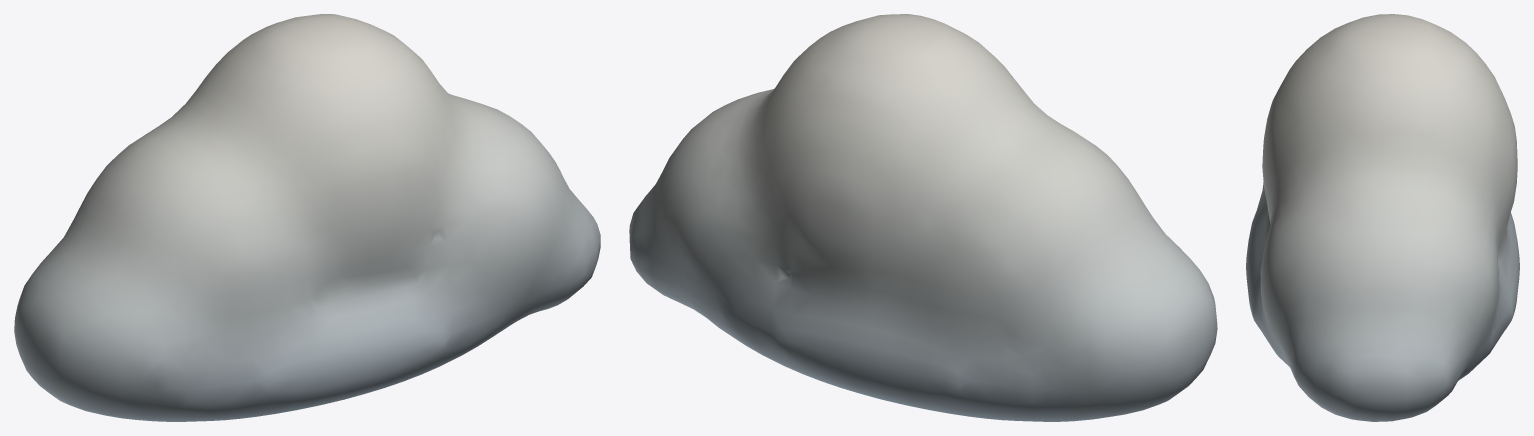
File: fw_cloud_cumulus.glb
The picture shows the model from 3 angles, left to right: view 1: azimuth 30°, elevation 25°; view 2: azimuth 150°, elevation 25°; view 3: azimuth 270°, elevation 25°; orthographic projection. The views are drawn at different scales.
Visible parts, largest first — view 1: body; view 2: body; view 3: body.
Boxes of the visible parts, x1,y1,x2,y2 form: body: (14,14,600,421); body: (629,14,1217,421); body: (1246,14,1519,421).
Size of the model in its own units: 3.58 by 2.13 by 1.62.
